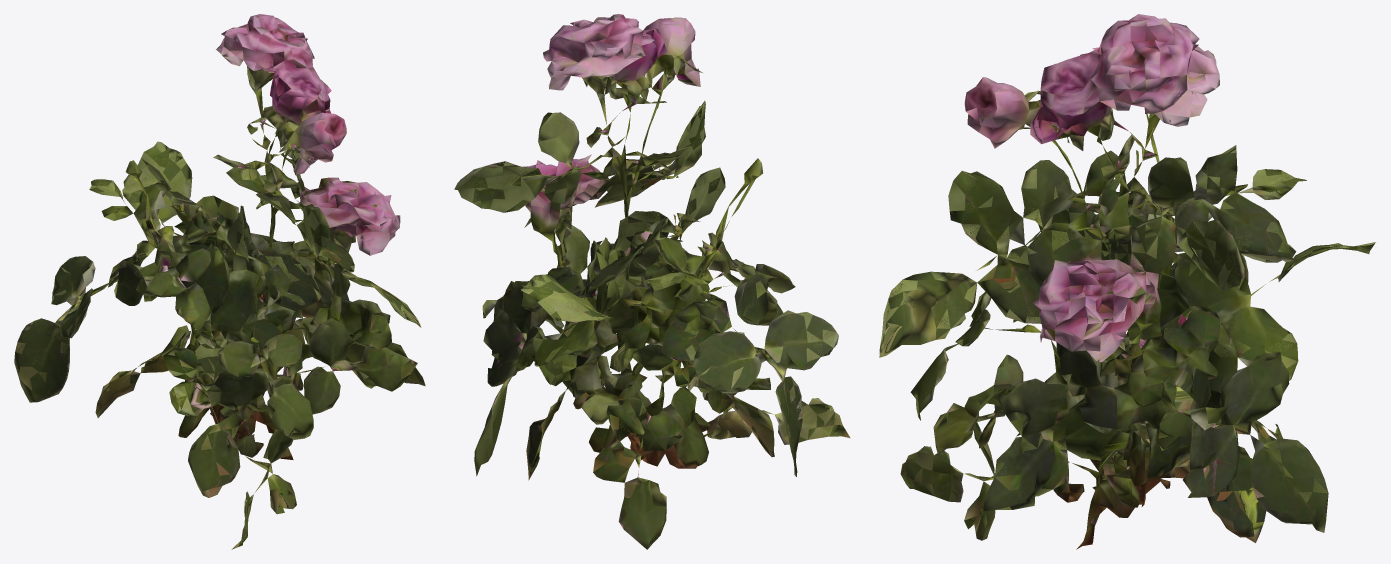
3 views of the same model, side by side, from view 1: azimuth 30°, elevation 25°; view 2: azimuth 150°, elevation 25°; view 3: azimuth 270°, elevation 25° (orthographic). The views are drawn at different scales.
Visible parts, largest first — view 1: 65df7c2d; view 2: 65df7c2d; view 3: 65df7c2d.
Boxes of the visible parts, left/top/right/bottom form: 65df7c2d: left=14, top=14, right=425, bottom=549; 65df7c2d: left=454, top=14, right=850, bottom=549; 65df7c2d: left=879, top=14, right=1375, bottom=549.
Size of the model in its own units: 0.1477 by 0.1887 by 0.1567.
1 material, 1 textured.
